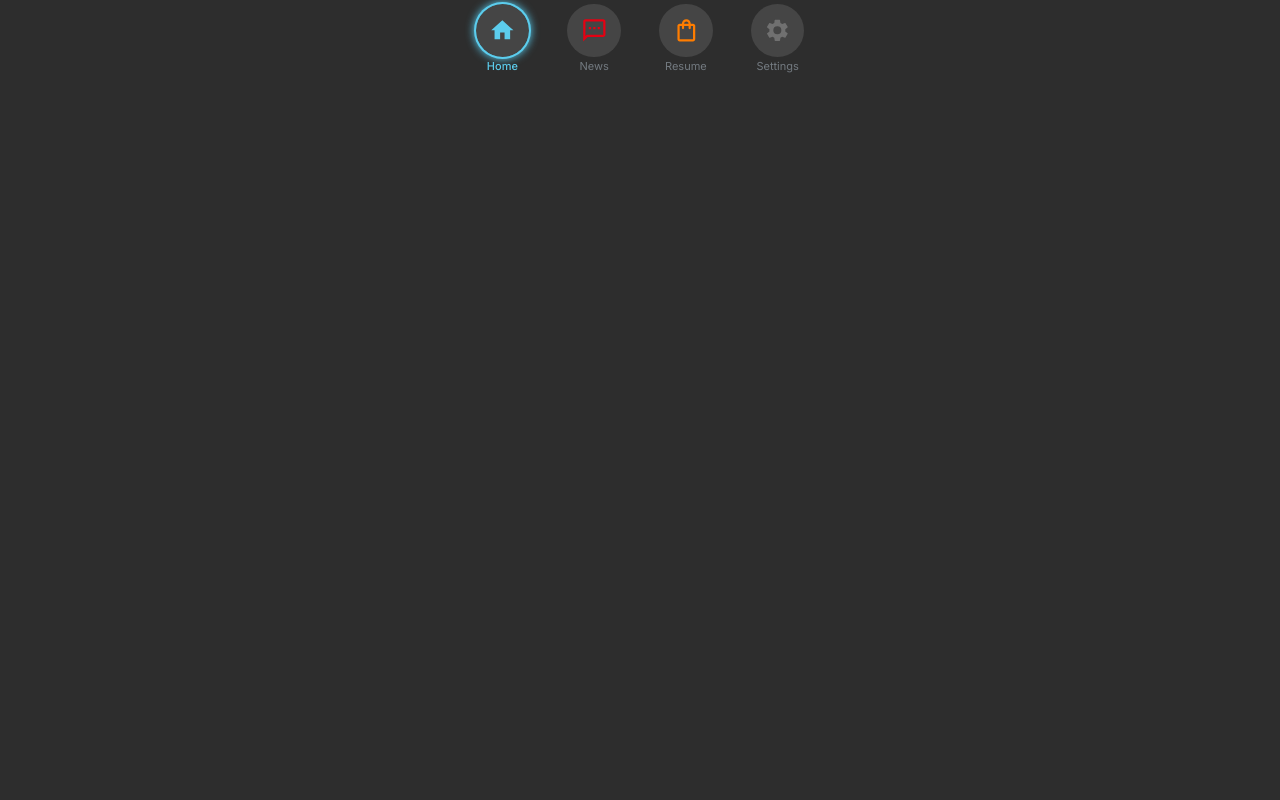
it: BottomNav › opens resume modal when resume button is clicked
This screenshot has width=1280, height=800.
Click the button with aria-label "download resume" at (686, 38), box x1=659 y1=4 x2=713 y2=72
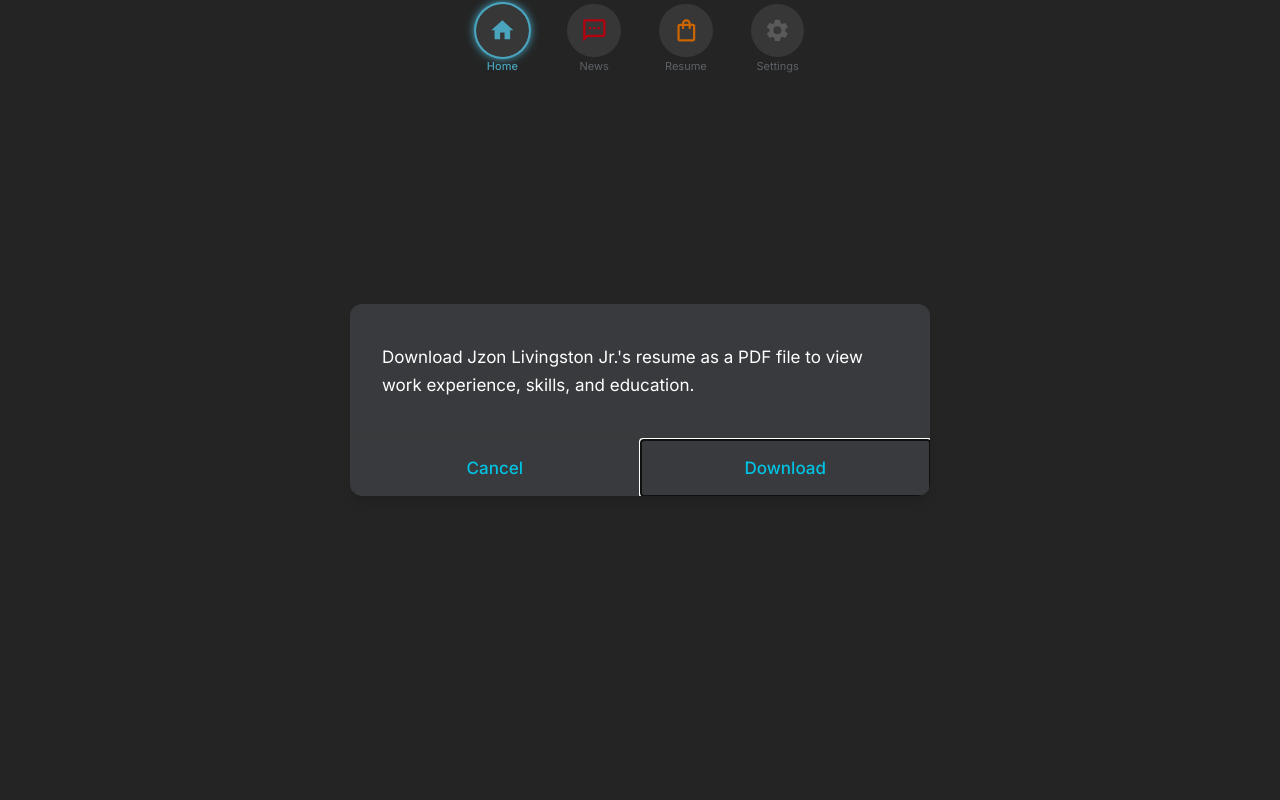
Expected: the dialog is shown, x1=350 y1=304 x2=930 y2=496
Expected: the text "Download Jzon Livingston" is shown, x1=382 y1=347 x2=863 y2=394
